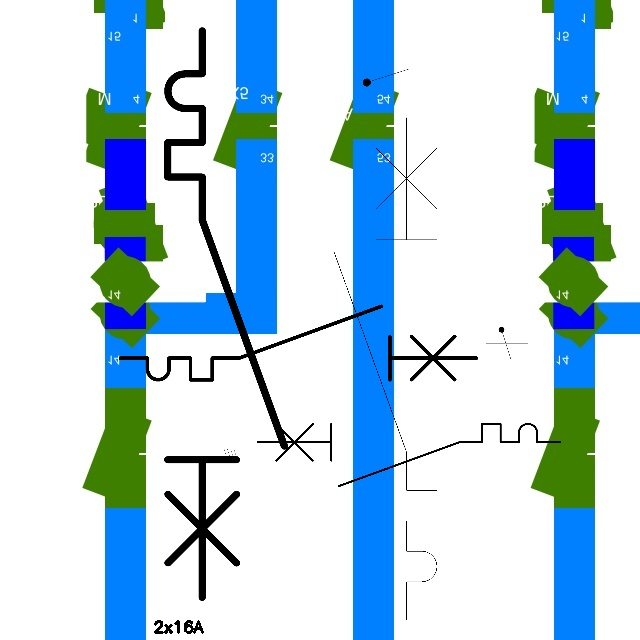interruptor_termomagnetico: (153, 16, 299, 612), (321, 104, 450, 633), (111, 297, 486, 389), (250, 416, 568, 494)
